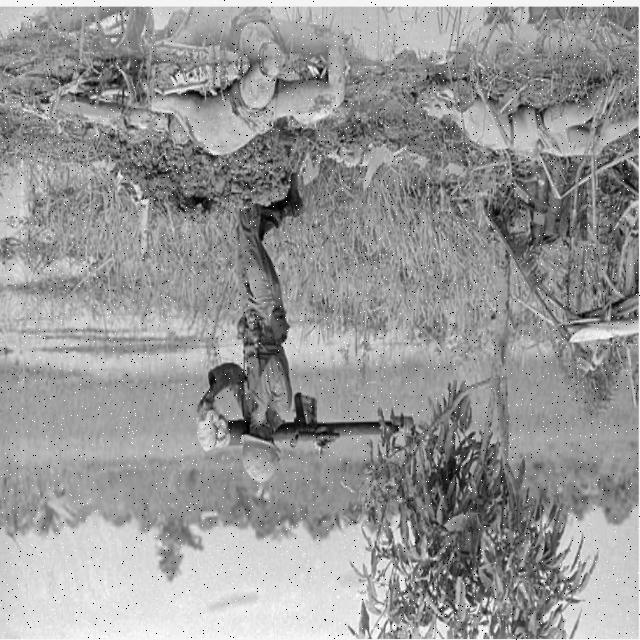bazooka: (188, 386, 418, 461)
